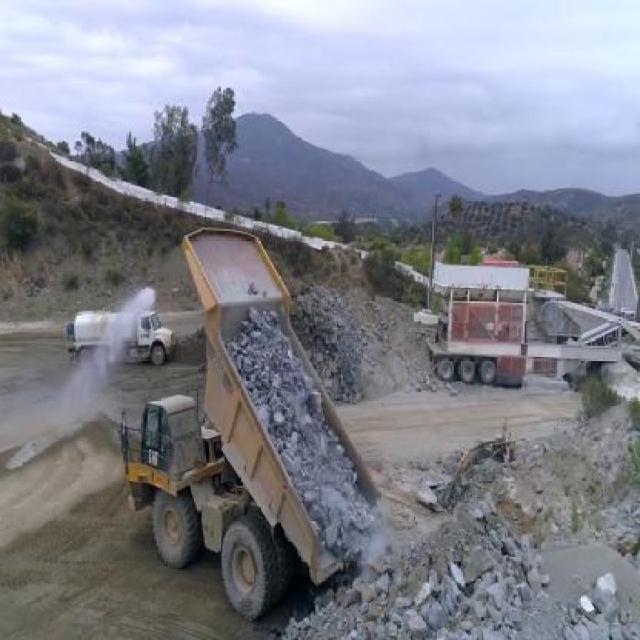dump_truck: (108, 222, 386, 618)
